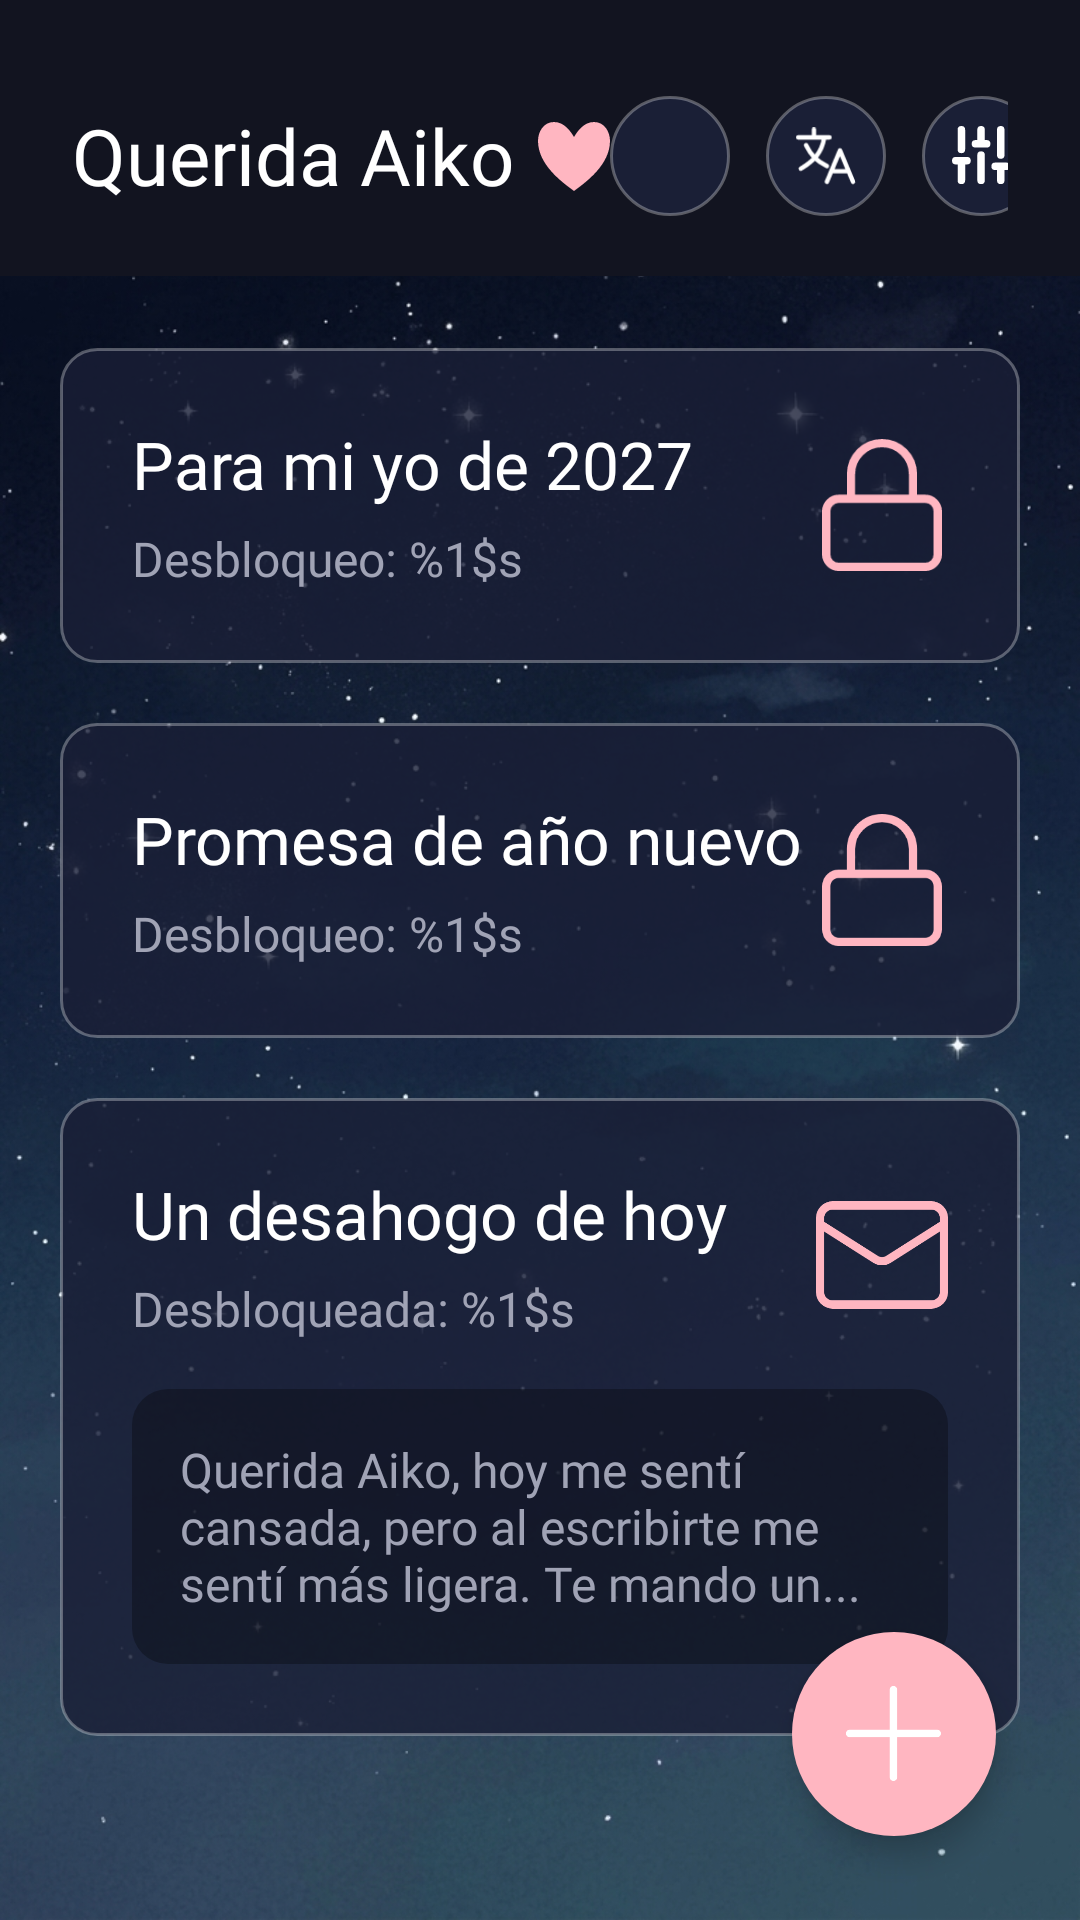

Icons on this 1080×1920 Android screen, each with the point to tap as (x,y):
Botón para añadir una nueva promesa o desahogo: (894,1734)
carta: (882,1261)
corazon titulo: (574,156)
Icono de candado que indica si la promesa está bloqueada: (879,505), (882,880)
traductor: (826,156)
